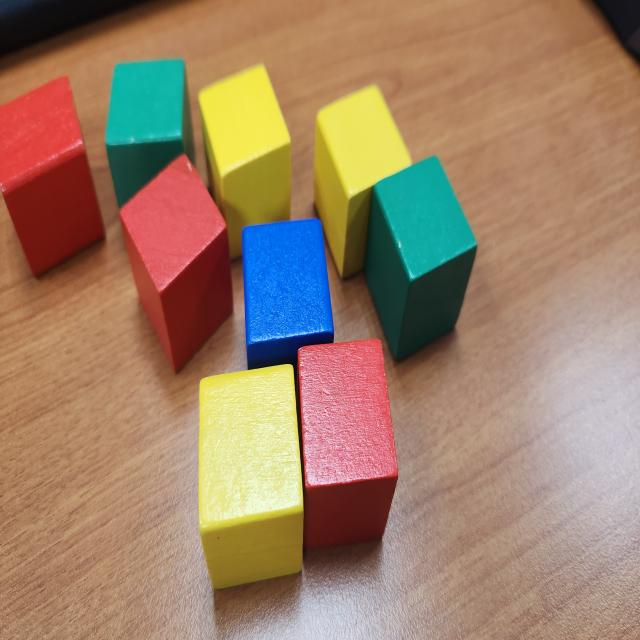blue: (240, 218, 334, 370)
green: (360, 153, 478, 365), (104, 61, 195, 210)
red: (115, 148, 241, 374), (0, 75, 108, 280), (294, 338, 398, 548)
yellow: (193, 363, 307, 592), (312, 84, 414, 278), (195, 61, 293, 262)
